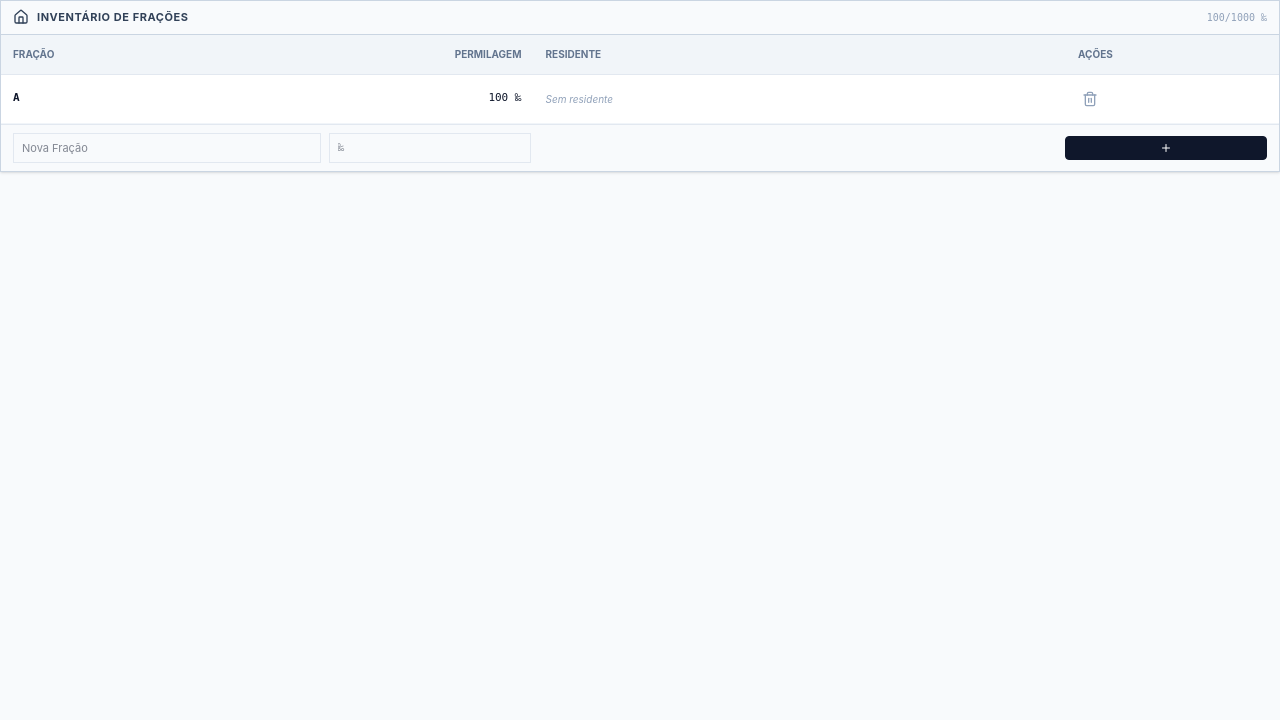
it: ApartmentManager Delete Confirmation › should open the confirm modal when delete button is clicked
Click the button with test id "delete-unit-button-1": (1090, 98) [1078,86,1102,110]
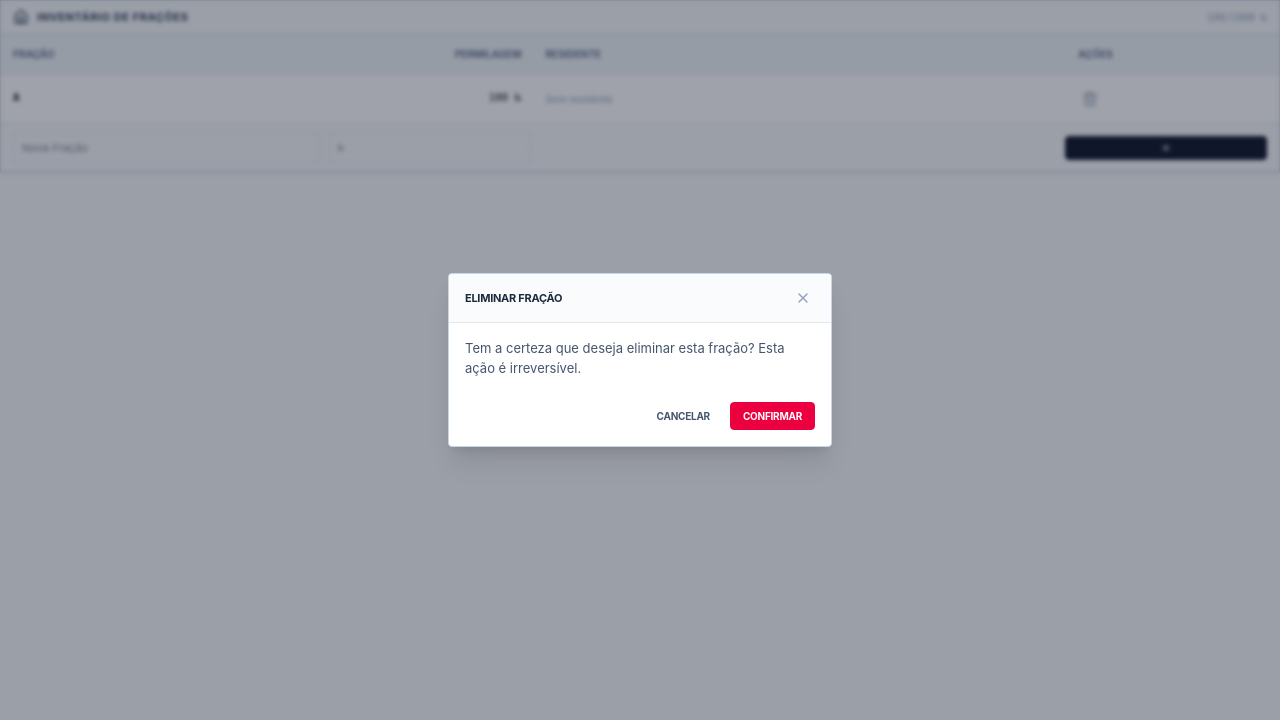
Check: the heading "Eliminar Fração" is shown, box [465,290,562,306]
